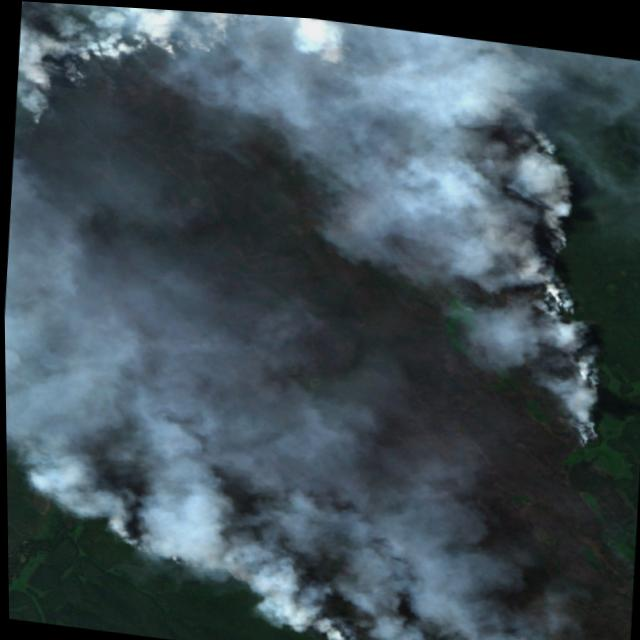fire: (14, 1, 233, 130), (99, 513, 189, 569), (533, 184, 574, 247), (532, 277, 586, 322), (311, 611, 390, 640), (556, 406, 605, 445), (569, 355, 606, 383)
